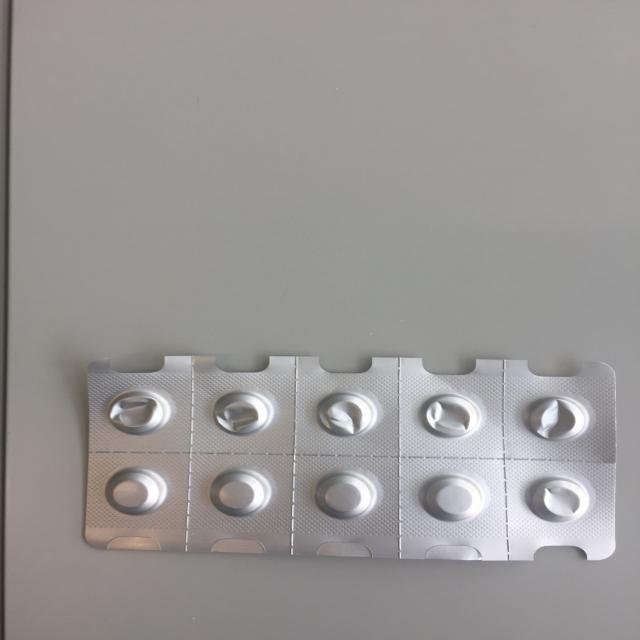Empty: (98, 384, 180, 438), (307, 385, 382, 442), (412, 389, 484, 446), (206, 385, 278, 440), (527, 470, 592, 526), (518, 393, 590, 443)
Pill: (416, 470, 489, 526), (205, 466, 280, 520), (102, 462, 173, 518), (307, 468, 378, 520)
